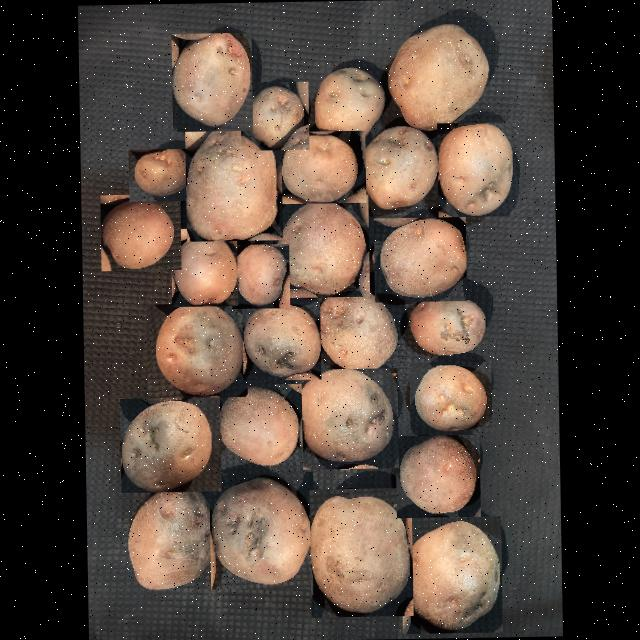Diseased-fungal potato: (309, 486, 413, 616), (208, 470, 314, 588), (400, 514, 502, 633), (387, 18, 494, 130), (185, 118, 282, 240), (294, 366, 398, 468), (124, 482, 216, 595), (274, 193, 369, 297), (119, 396, 221, 492), (146, 301, 248, 397), (171, 31, 253, 130), (436, 120, 520, 216), (215, 382, 303, 472), (374, 215, 466, 301), (314, 280, 396, 372), (361, 122, 442, 210), (395, 434, 480, 516), (277, 129, 366, 203), (100, 192, 181, 270), (242, 300, 321, 379), (406, 284, 490, 358), (409, 360, 492, 433), (310, 61, 388, 138), (170, 227, 238, 306), (240, 80, 309, 150), (230, 242, 290, 308), (128, 147, 193, 200)
